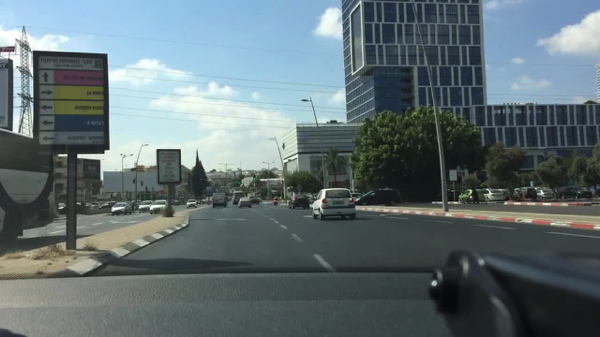bus: (0, 128, 58, 244)
car: (310, 188, 357, 221), (354, 188, 401, 206), (554, 185, 592, 200), (481, 188, 511, 203), (457, 188, 485, 203), (287, 194, 310, 210), (512, 187, 536, 201), (110, 202, 132, 216), (149, 198, 168, 214), (212, 191, 228, 208), (536, 186, 556, 199), (138, 200, 154, 214), (231, 191, 245, 205), (237, 197, 252, 209), (186, 199, 198, 209), (309, 192, 319, 203), (75, 201, 93, 207), (350, 192, 362, 199), (250, 198, 260, 205), (171, 199, 180, 206), (58, 202, 66, 208), (107, 201, 115, 207), (201, 199, 209, 205), (532, 186, 543, 190), (195, 199, 202, 205), (92, 202, 100, 207), (206, 197, 213, 202), (257, 197, 262, 203), (101, 203, 108, 207)
motor: (272, 199, 279, 206)
rider: (272, 195, 279, 200)
traffic light: (253, 175, 256, 181), (237, 181, 241, 185)
traffic sign: (32, 48, 110, 155), (155, 147, 183, 185), (0, 57, 14, 132), (448, 169, 457, 182), (0, 45, 15, 52), (206, 186, 213, 197)
